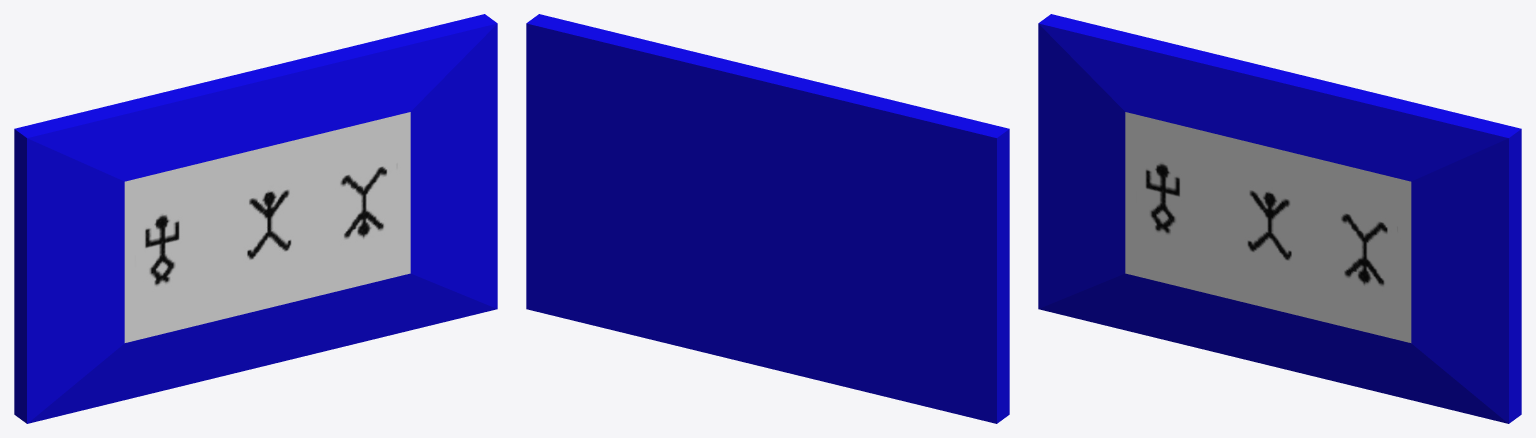
Rendered from placa_codi.obj.
3 renders of one model, left to right at view 1: azimuth 30°, elevation 25°; view 2: azimuth 150°, elevation 25°; view 3: azimuth 330°, elevation 25°, orthographic.
Visible parts, largest first — view 1: Cube; view 2: Cube; view 3: Cube.
Part boxes in pixels (left/top/right/bottom): Cube: left=14, top=14, right=497, bottom=423; Cube: left=526, top=14, right=1009, bottom=423; Cube: left=1038, top=14, right=1521, bottom=423.
Bounding box in the file's own units: 3.45 × 2 × 0.2304.
1 material, 1 textured.
